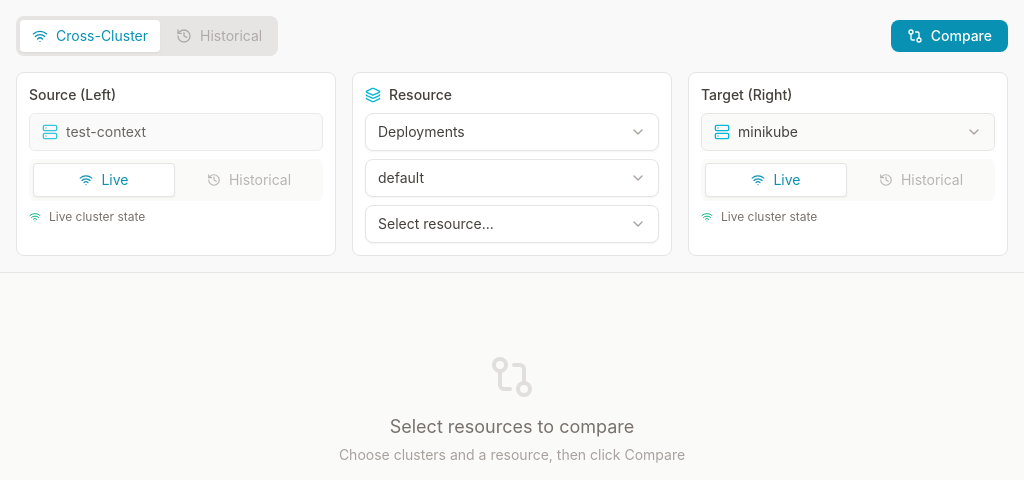
ClusterDiff › resource name selection › should load resources and show them in dropdown
Click the button "Select resource...": (436, 224) [365,205,659,243]
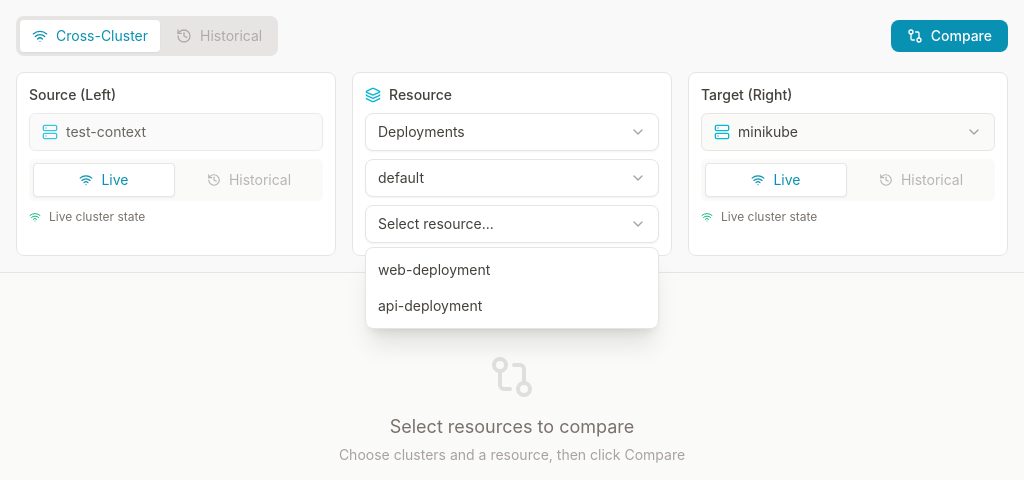
Check: the text "web-deployment" is shown, box [378,260,490,280]
Check: the text "api-deployment" is shown, box [378,296,482,316]
